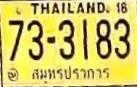1: (82, 18, 87, 60)
3: (113, 18, 130, 58), (58, 19, 74, 59), (27, 20, 42, 60)
7: (8, 19, 23, 60)
8: (95, 18, 111, 58)
CBI: (28, 64, 113, 85)
